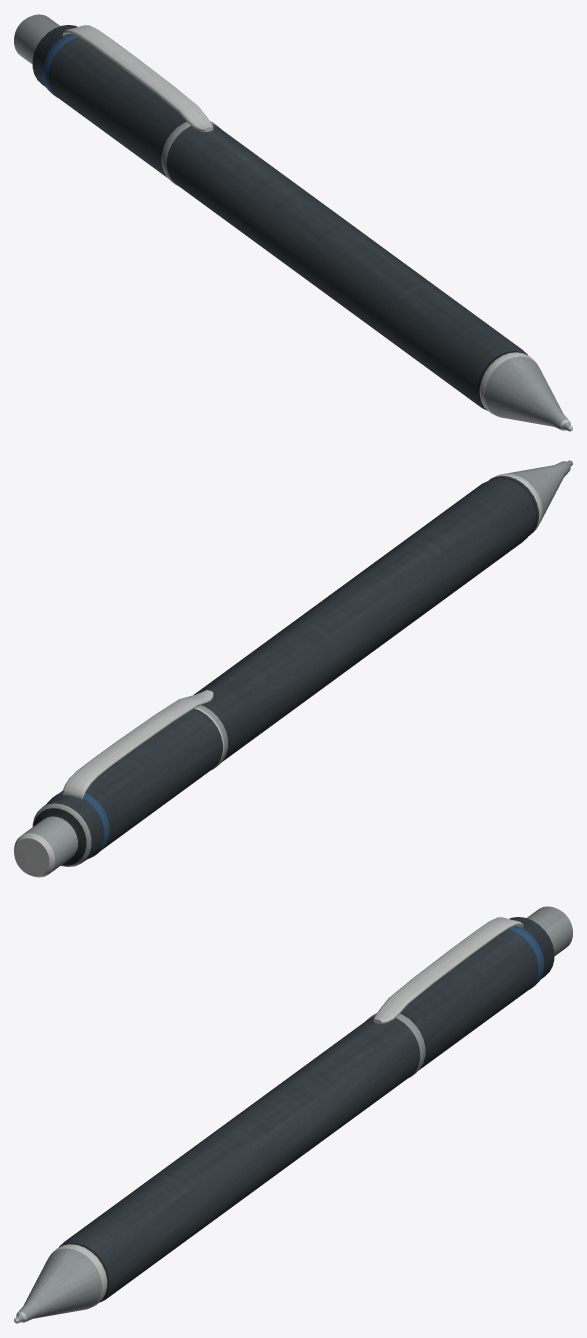
The model's file is Pickup_Pen.fbx.
3 views of the same model, one above another, from view 1: azimuth 30°, elevation 25°; view 2: azimuth 150°, elevation 25°; view 3: azimuth 330°, elevation 25° (orthographic).
Visible parts, largest first — view 1: Pickup_Pen; view 2: Pickup_Pen; view 3: Pickup_Pen.
Part boxes in pixels (x1,y1,x2,y2): Pickup_Pen: (14,14,572,431); Pickup_Pen: (14,460,572,877); Pickup_Pen: (14,906,572,1323).
Size of the model in its own units: 0.9669 by 1.16 by 14.5.
